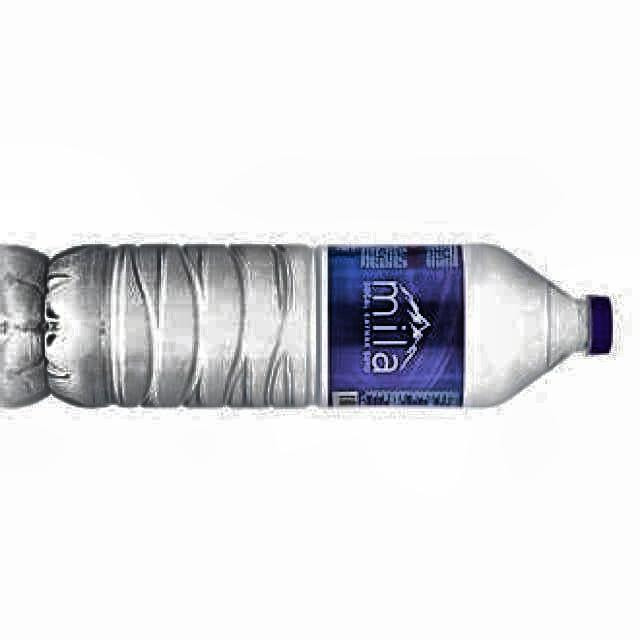plastic: (45, 245, 611, 406)
